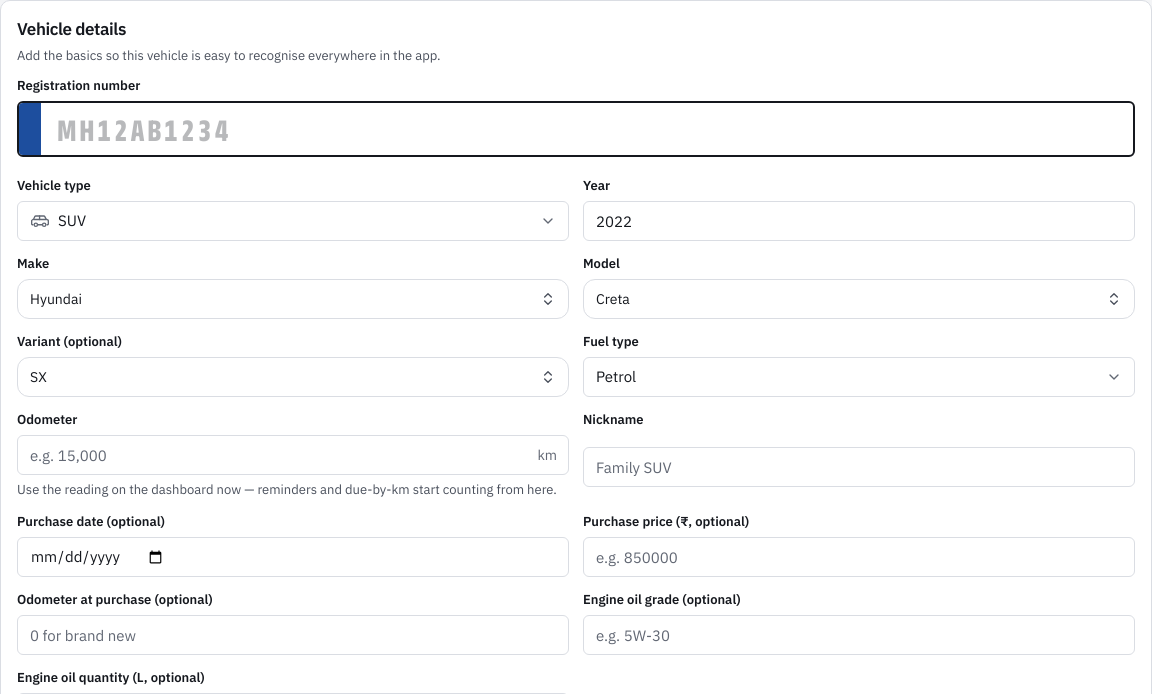
it: VehicleForm year change › starts the pickers over for a year the variant was not sold in
The image size is (1152, 694).
Replace the text in the number field labelled "Year" with "2024" at {"x": 859, "y": 221}, box [583, 201, 1135, 241]
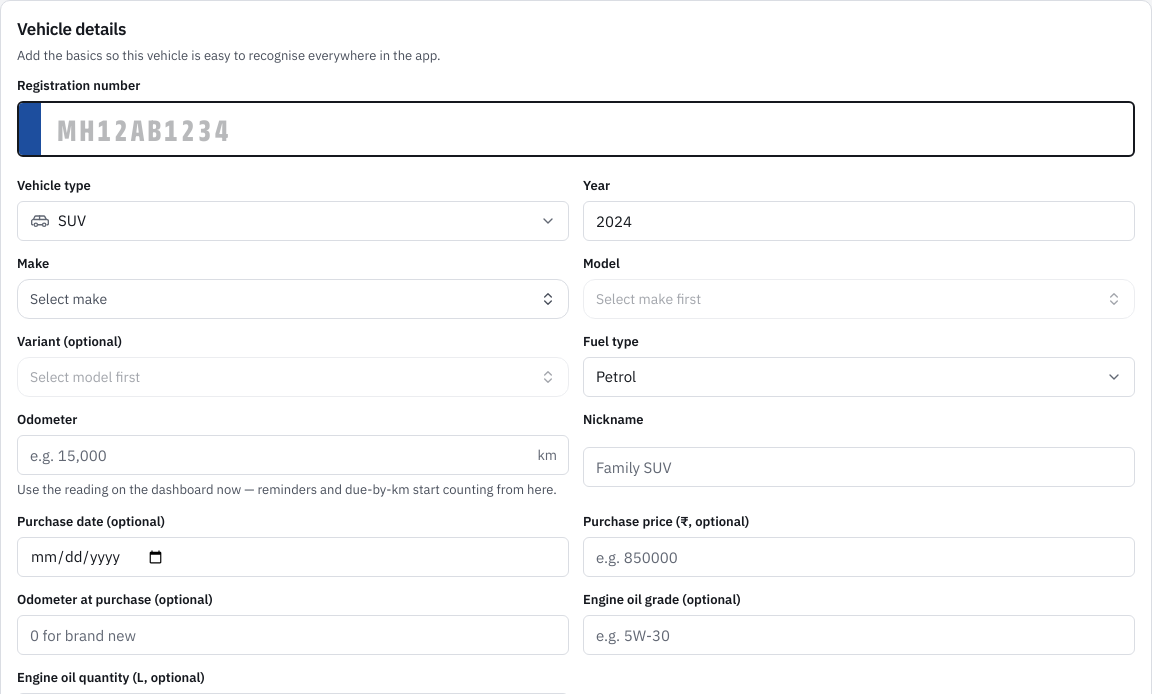
Expected: the dropdown labelled "make" reads "Select make", [17, 279, 569, 319]
Expected: the dropdown named "Variant (optional)" reads "Select model first", [17, 357, 569, 397]
